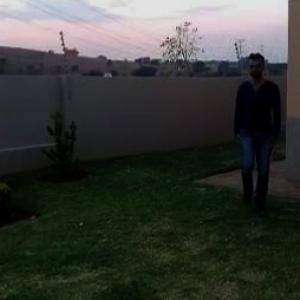follow: (234, 44, 298, 232)
